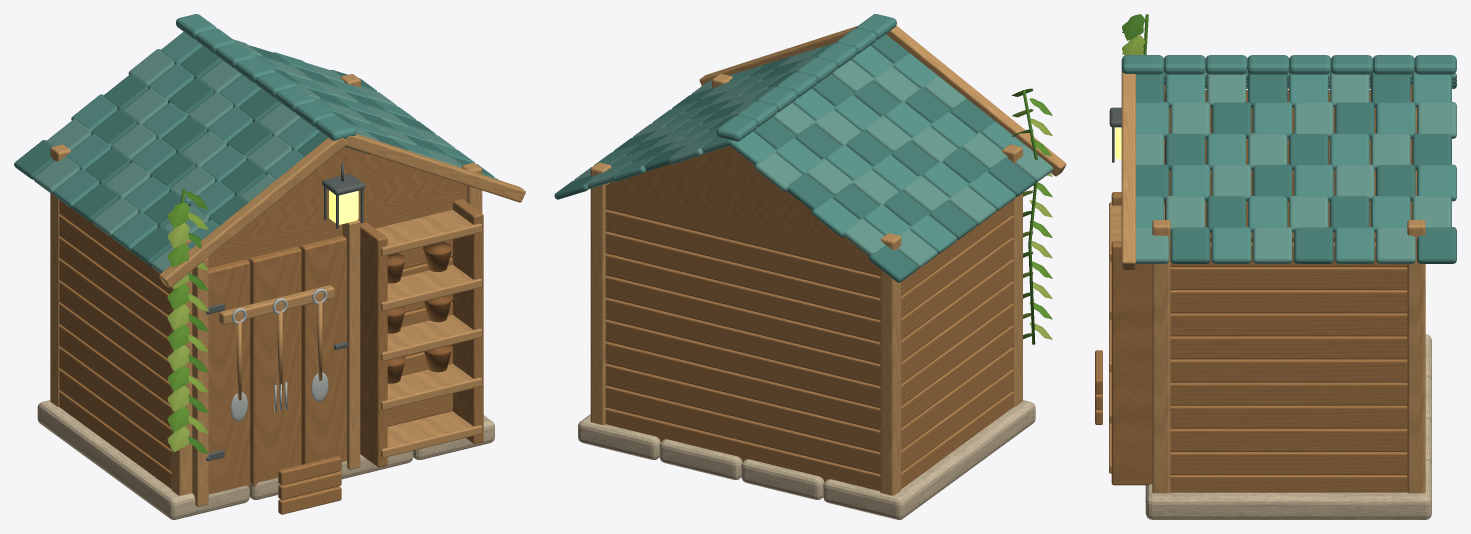
Rendered from tool-shed.glb.
3 views of the same model, side by side, from view 1: azimuth 30°, elevation 25°; view 2: azimuth 150°, elevation 25°; view 3: azimuth 270°, elevation 25° (orthographic). The views are drawn at different scales.
Parts seen in each view (by area): view 1: tool_shed; view 2: tool_shed; view 3: tool_shed.
Boxes of the visible parts, x1=… form: tool_shed: x1=14, y1=14, x2=525, y2=519; tool_shed: x1=554, y1=14, x2=1066, y2=519; tool_shed: x1=1095, y1=14, x2=1456, y2=519.
Bounding box in the file's own units: 3.1 × 2.95 × 2.55.
14 materials, 8 textured.
